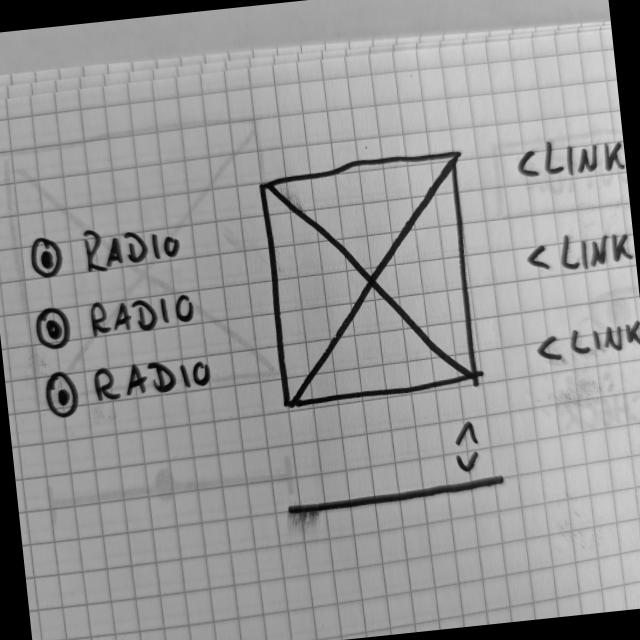image: (254, 145, 486, 418)
link: (512, 127, 626, 186), (520, 223, 636, 278), (531, 315, 640, 368)
number-input: (276, 409, 508, 521)
radio: (42, 352, 216, 422), (31, 287, 198, 353), (26, 218, 185, 284)
